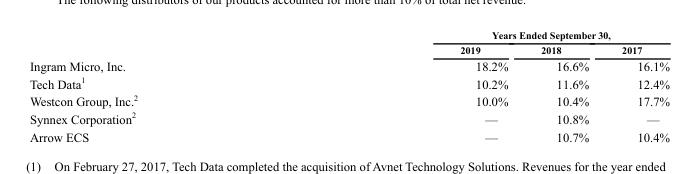table: (28, 28, 669, 143)
table column: (28, 28, 298, 143), (298, 28, 523, 143), (523, 28, 604, 143), (604, 28, 669, 143)
table column header: (28, 28, 669, 56)
table row: (28, 108, 669, 127), (28, 73, 669, 91), (28, 56, 669, 73), (28, 91, 669, 108), (28, 127, 669, 143), (28, 41, 669, 56), (28, 28, 669, 41)
table spanning cell: (298, 28, 669, 41)
